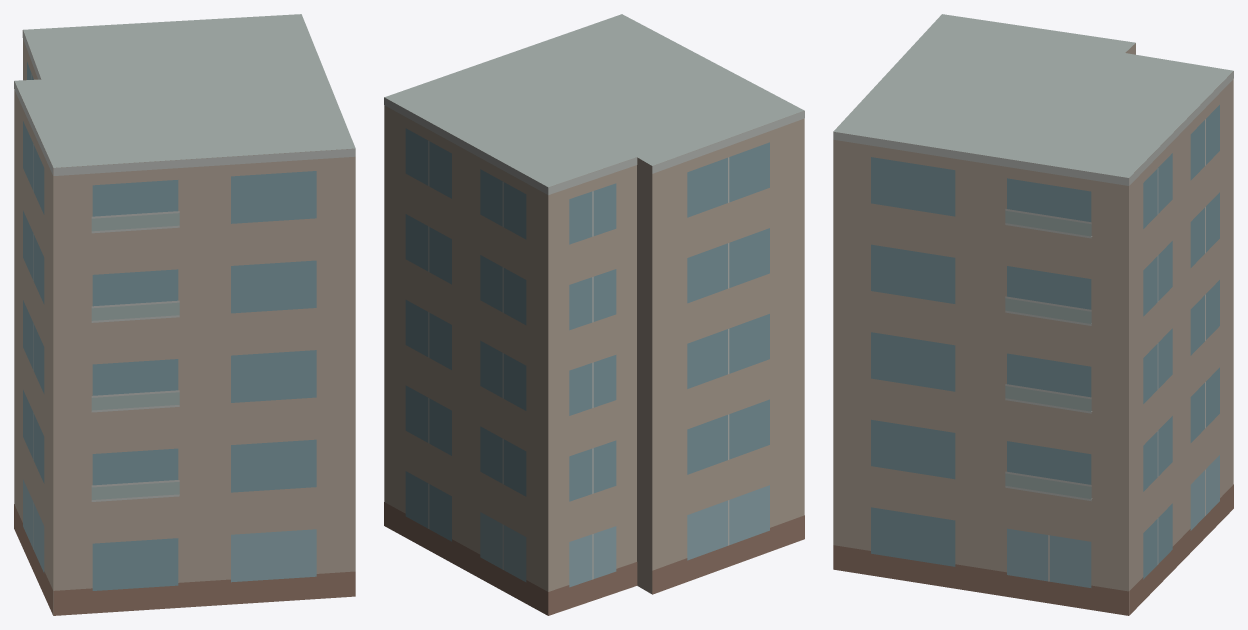
The model's file is survey-upis-32528819.glb.
The picture shows the model from 3 angles, left to right: view 1: azimuth 30°, elevation 25°; view 2: azimuth 150°, elevation 25°; view 3: azimuth 270°, elevation 25°; orthographic projection. The views are drawn at different scales.
Parts seen in each view (by area): view 1: survey-upis-32528819.tmp; view 2: survey-upis-32528819.tmp; view 3: survey-upis-32528819.tmp.
Boxes of the visible parts, x1,y1,x2,y2 form: survey-upis-32528819.tmp: [14, 14, 355, 615]; survey-upis-32528819.tmp: [384, 14, 804, 615]; survey-upis-32528819.tmp: [833, 14, 1233, 615].
Bounding box in the file's own units: 10.69 × 13.3 × 11.04.
